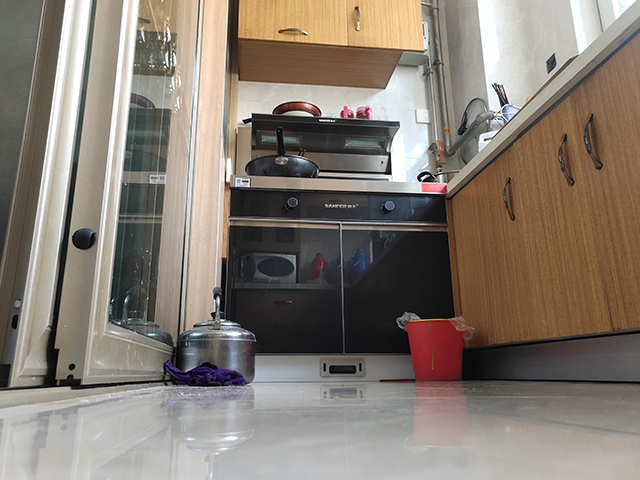cabinet: (466, 30, 638, 384)
trashcan: (405, 317, 467, 382)
